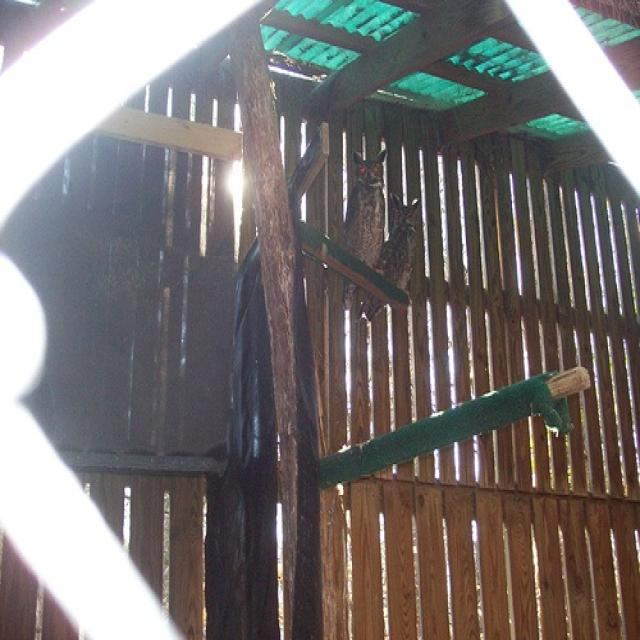bird: (342, 147, 388, 310), (362, 193, 421, 319)
